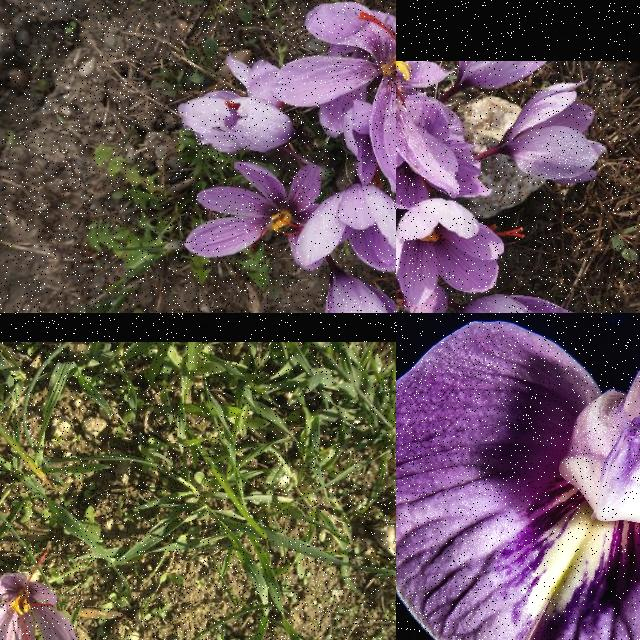flower: (396, 198, 526, 307), (506, 82, 608, 185), (292, 184, 396, 273), (0, 552, 80, 640), (323, 274, 396, 313), (458, 61, 546, 89)
overlap: (177, 0, 396, 272), (396, 61, 493, 313)
